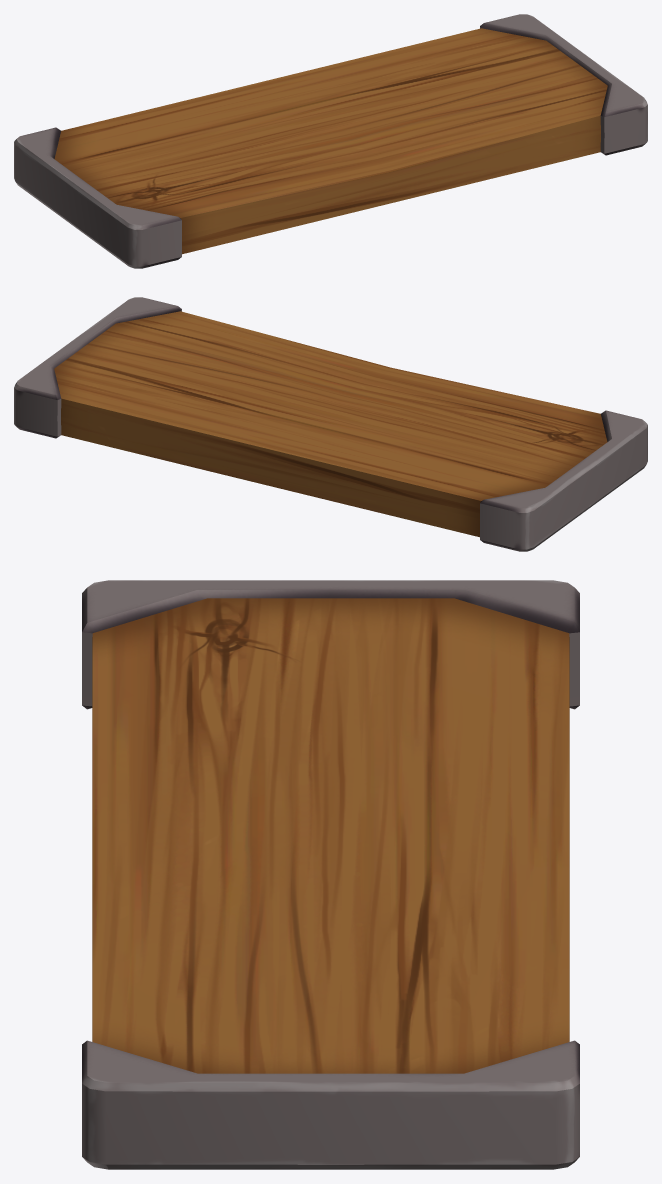
File: wood.glb
3 renders of one model, top to bottom at view 1: azimuth 30°, elevation 25°; view 2: azimuth 150°, elevation 25°; view 3: azimuth 270°, elevation 25°, orthographic. The views are drawn at different scales.
Visible parts, largest first — view 1: wood; view 2: wood; view 3: wood.
Part boxes in pixels (<box>): wood: <box>14,14,647,268</box>; wood: <box>14,297,647,551</box>; wood: <box>82,580,579,1169</box>.
Bounding box in the file's own units: 0.3742 × 0.0298 × 0.1555.
1 material, 1 textured.
